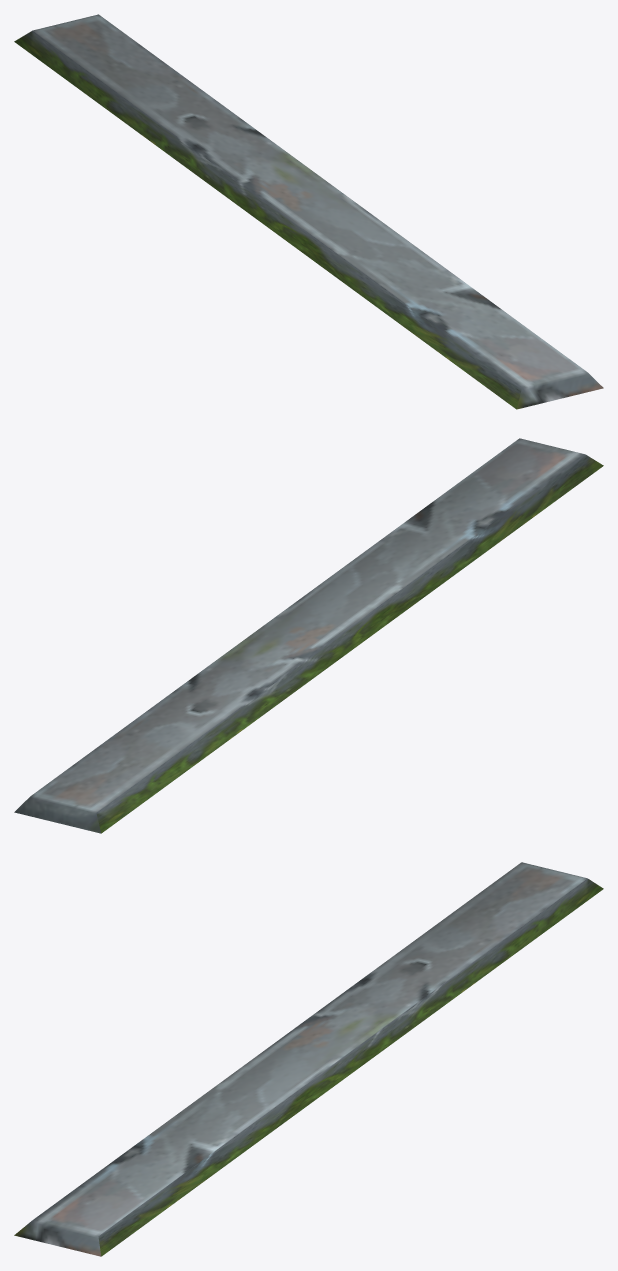
The model's file is fb_xsc_zj_04_c.FBX.
3 renders of one model, top to bottom at view 1: azimuth 30°, elevation 25°; view 2: azimuth 150°, elevation 25°; view 3: azimuth 330°, elevation 25°, orthographic.
Visible parts, largest first — view 1: fb_xsc_zj_04_c; view 2: fb_xsc_zj_04_c; view 3: fb_xsc_zj_04_c.
Part boxes in pixels (<box>): fb_xsc_zj_04_c: <box>14,14,603,409</box>; fb_xsc_zj_04_c: <box>14,438,603,833</box>; fb_xsc_zj_04_c: <box>14,862,603,1256</box>.
Bounding box in the file's own units: 51.37 × 7.47 × 512.
